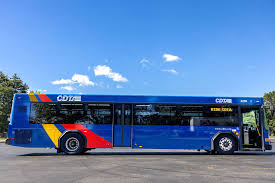bus: (7, 92, 272, 157)
